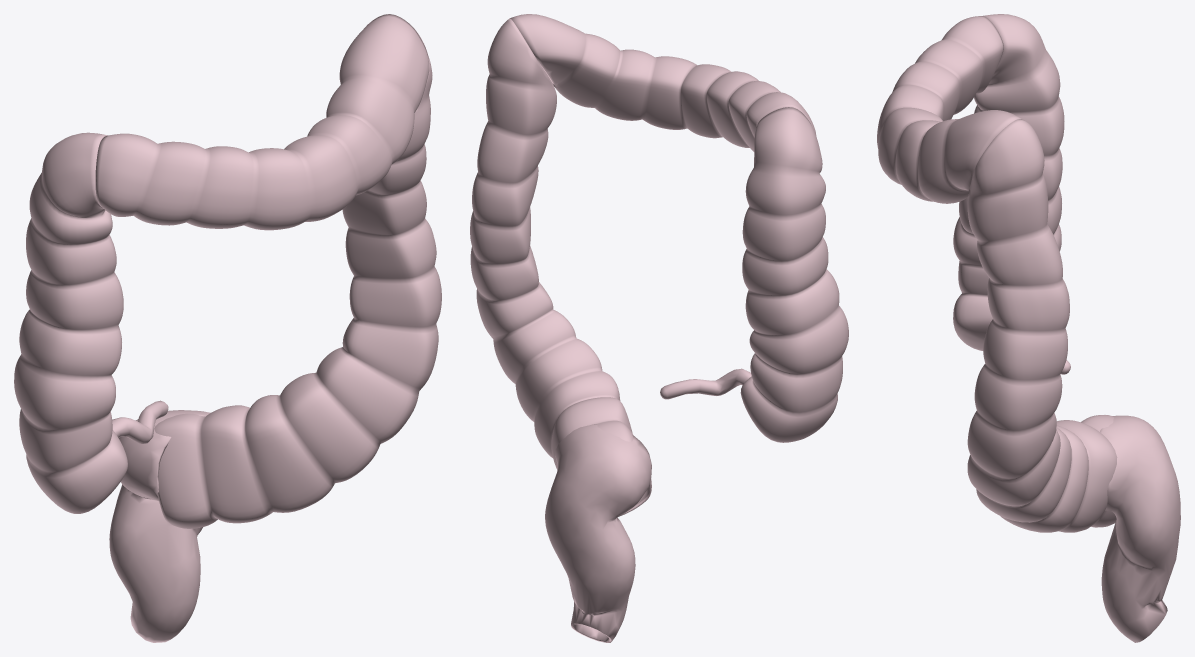
File: intestino-crasso-test.glb
3 views of the same model, side by side, from view 1: azimuth 30°, elevation 25°; view 2: azimuth 150°, elevation 25°; view 3: azimuth 270°, elevation 25° (orthographic). The views are drawn at different scales.
Parts seen in each view (by area): view 1: Descending colon, Transverse colon, Ascending colon, Sigmoid colon, Vermiform appendix; view 2: Descending colon, Ascending colon, Transverse colon, Sigmoid colon, Vermiform appendix; view 3: Descending colon, Transverse colon, Sigmoid colon, Ascending colon.
Boxes of the visible parts, x1=… form: Descending colon: x1=154, y1=18, x2=441, y2=528; Transverse colon: x1=95, y1=14, x2=429, y2=230; Ascending colon: x1=14, y1=132, x2=127, y2=513; Sigmoid colon: x1=109, y1=410, x2=210, y2=642; Vermiform appendix: x1=112, y1=400, x2=168, y2=443; Descending colon: x1=470, y1=18, x2=651, y2=516; Ascending colon: x1=740, y1=107, x2=848, y2=442; Transverse colon: x1=510, y1=14, x2=816, y2=151; Sigmoid colon: x1=545, y1=424, x2=651, y2=642; Vermiform appendix: x1=660, y1=368, x2=751, y2=399; Descending colon: x1=967, y1=119, x2=1117, y2=532; Transverse colon: x1=877, y1=16, x2=1022, y2=203; Sigmoid colon: x1=1100, y1=415, x2=1180, y2=642; Ascending colon: x1=953, y1=14, x2=1064, y2=350.
Size of the model in its own units: 0.2281 by 0.3314 by 0.1531.
